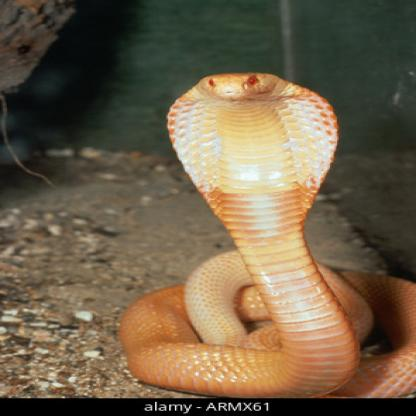Snake: (117, 69, 416, 392)
